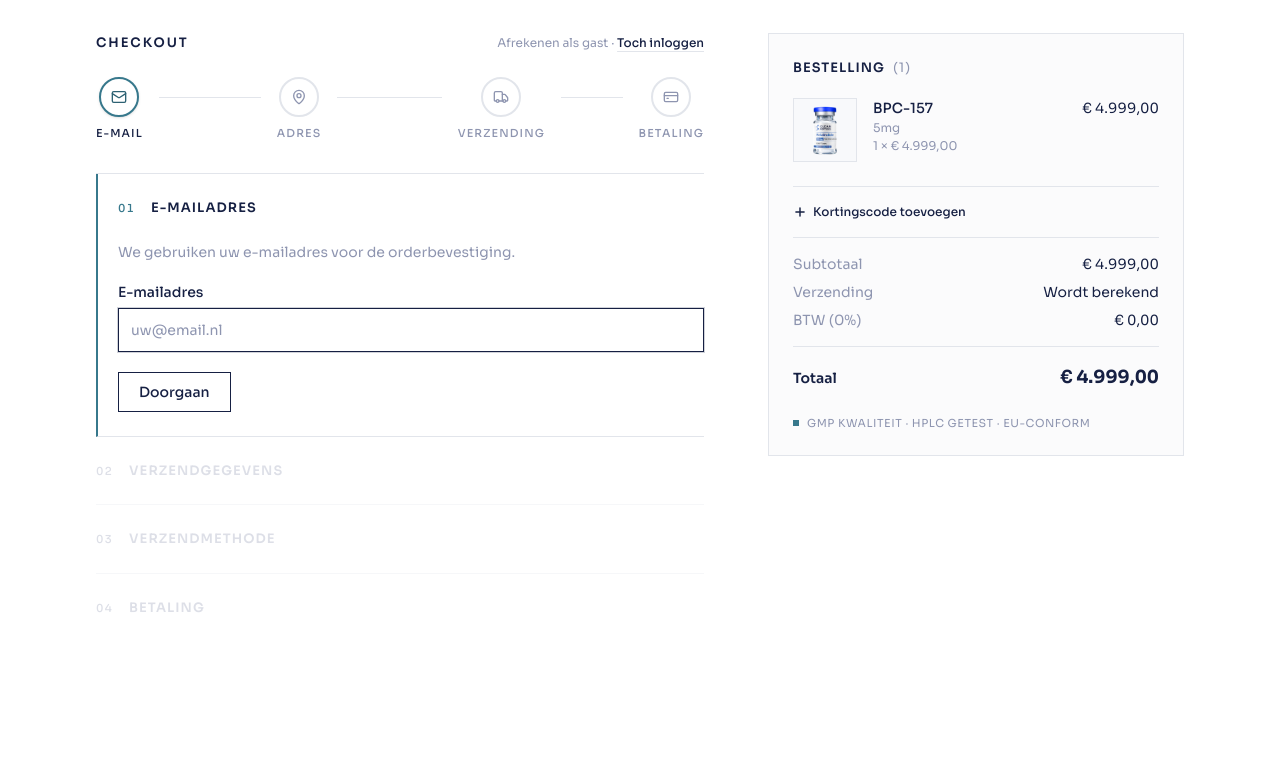
Scenario: CheckoutPage › validates required address fields
Complete step 1 first
In the field with placeholder "uw@email.nl": (411, 330) [118, 308, 704, 352], type "test@example.com"
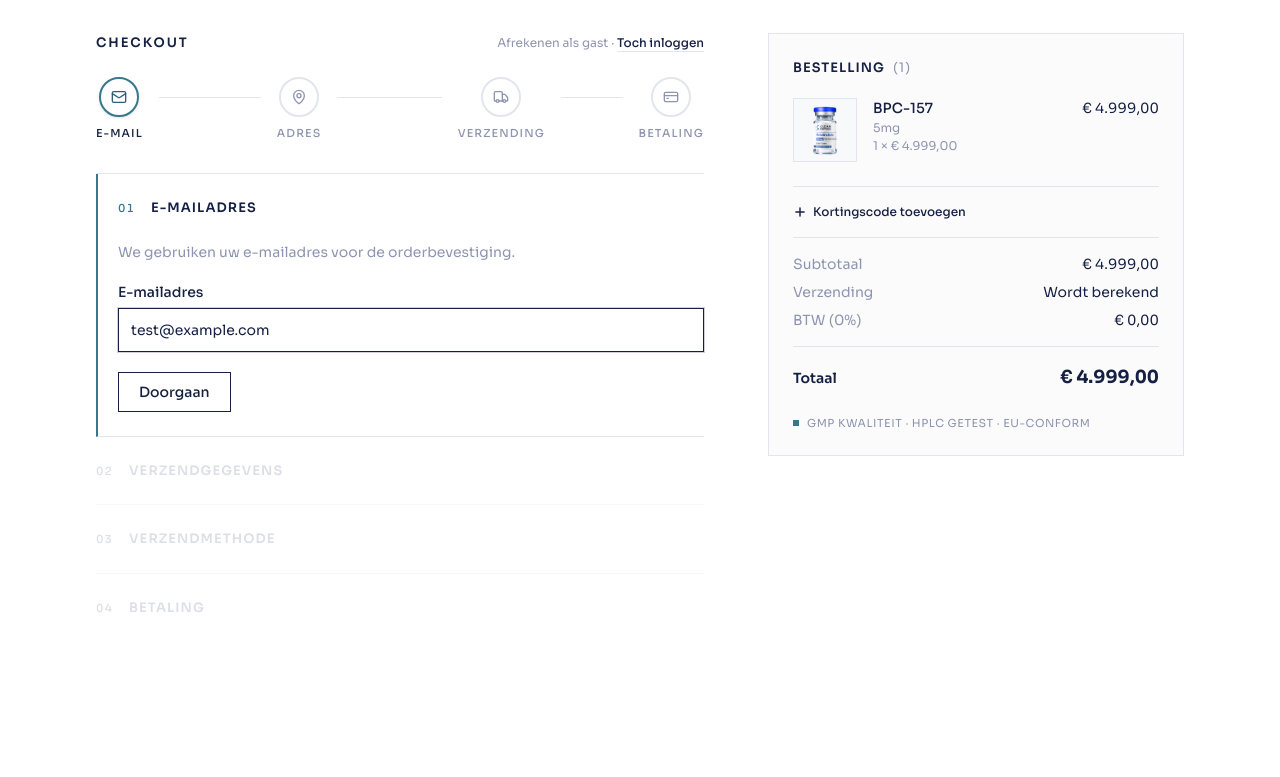
Click the button "Doorgaan": (174, 392) [118, 372, 230, 412]
(page scrolled)
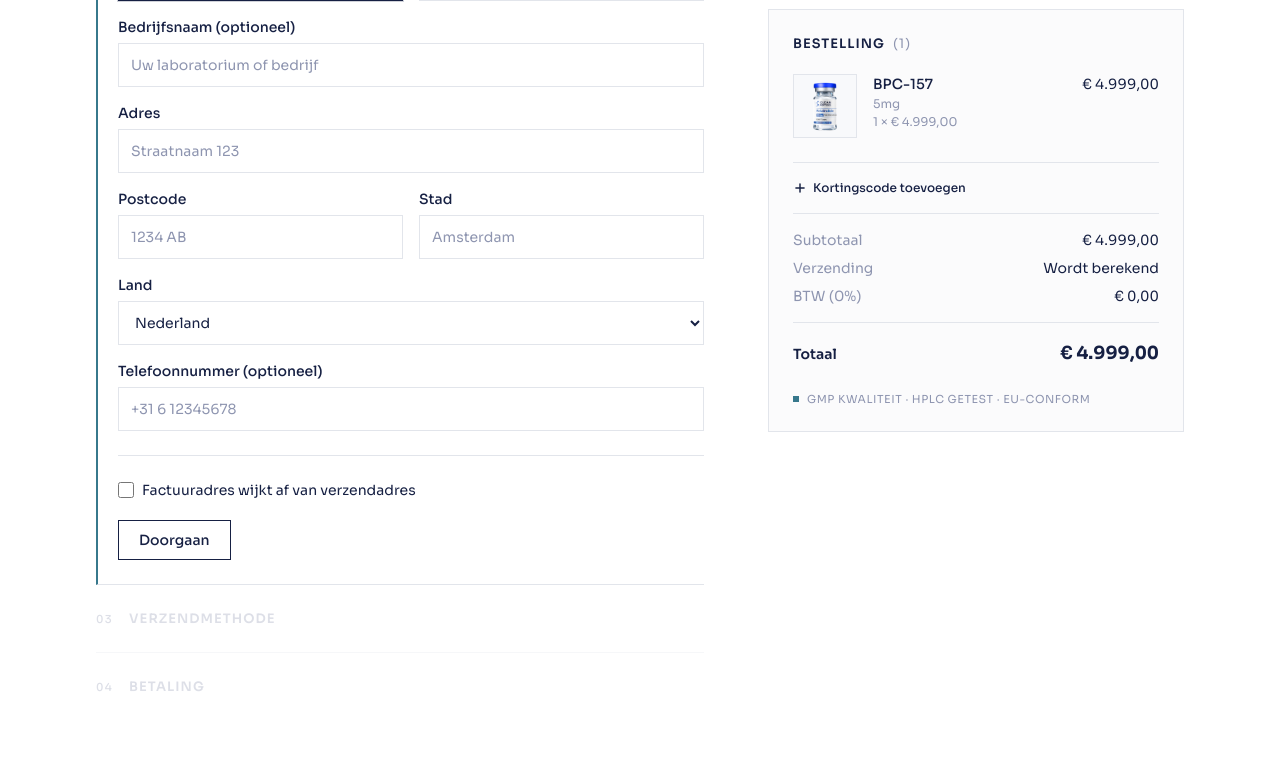
Submit address form without filling fields
Click the button "Doorgaan": (174, 540) [118, 520, 230, 560]
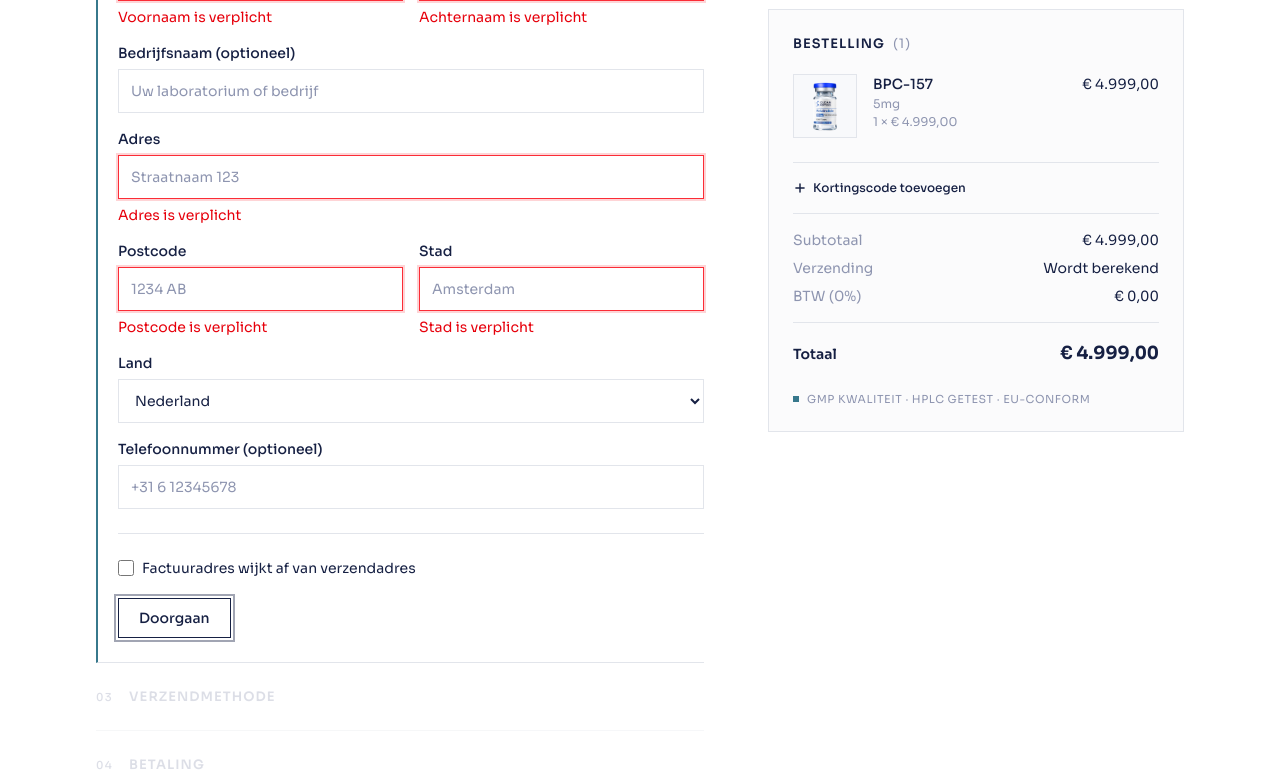
Check: the text "Voornaam is verplicht" is shown, box [118, 8, 272, 26]
Check: the text "Achternaam is verplicht" is shown, box [419, 8, 587, 26]
Check: the text "Adres is verplicht" is shown, box [118, 206, 241, 224]
